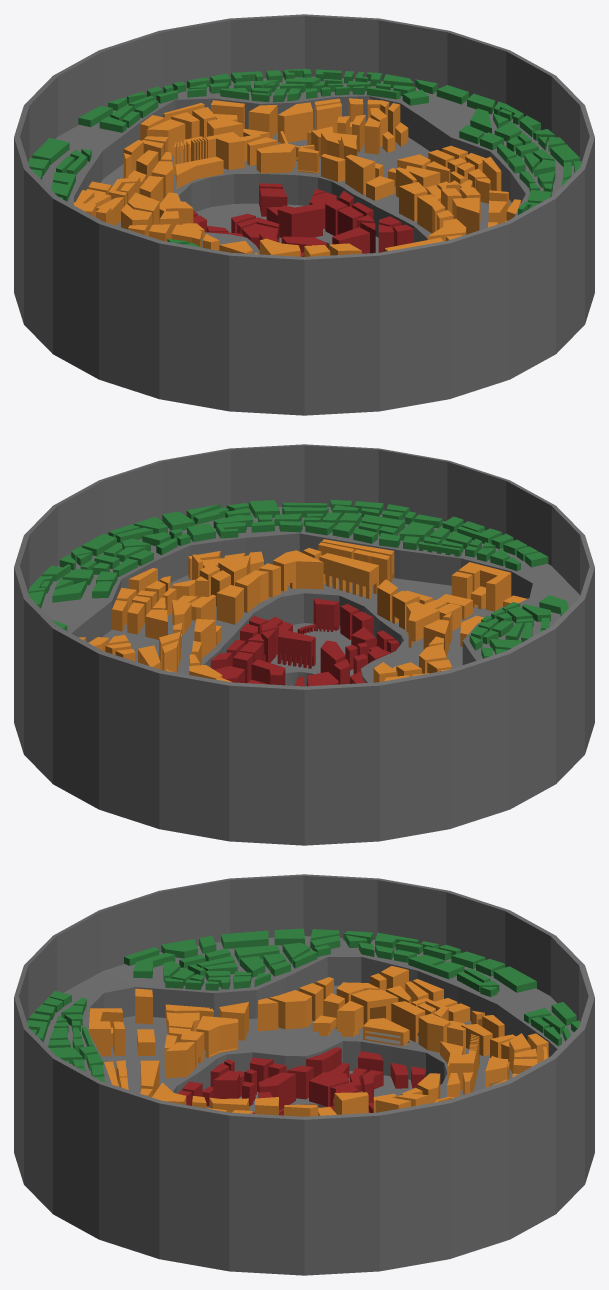
File: O_N_BowlBuildingsSized.fbx
3 views of the same model, one above another, from view 1: azimuth 30°, elevation 25°; view 2: azimuth 150°, elevation 25°; view 3: azimuth 270°, elevation 25° (orthographic).
Parts seen in each view (by area): view 1: M_New_Bowl, M_Buildings_Third_Floor.024, M_Buildings_Second_Floor.072, M_Buildings_Second_Floor.044, M_Buildings_Second_Floor.065, M_Buildings_Second_Floor.043, M_Buildings_Second_Floor.091, M_Buildings_Second_Floor.056, M_Buildings_Second_Floor.115, M_Buildings_Second_Floor.067, M_Buildings_Second_Floor.114, M_Buildings_Second_Floor.108 (+13 smaller); view 2: M_New_Bowl, M_Buildings_Second_Floor.122, M_Buildings_Second_Floor.121, M_Buildings_Second_Floor.006, M_Buildings_Third_Floor.016, M_Buildings_Third_Floor.010, M_Buildings_Second_Floor.108, M_Buildings_Second_Floor.001, M_Buildings_Second_Floor.114, M_Buildings_Third_Floor.024, M_Buildings_Second_Floor.091, M_Buildings_Second_Floor.014 (+10 smaller); view 3: M_New_Bowl, M_Buildings_Second_Floor.001, M_Buildings_Second_Floor.017, M_Buildings_Second_Floor.006, M_Buildings_Second_Floor.025, M_Buildings_Second_Floor.015, M_Buildings_Second_Floor.037, M_Buildings_Third_Floor.040, M_Buildings_Second_Floor.026, M_Buildings_Third_Floor.036, M_Buildings_Second_Floor.027, M_Buildings_First_Floor.173 (+17 smaller).
Boxes of the visible parts, <box> form: M_New_Bowl: <box>14,14,594,415</box>; M_Buildings_Third_Floor.024: <box>277,204,322,237</box>; M_Buildings_Second_Floor.072: <box>278,102,312,142</box>; M_Buildings_Second_Floor.044: <box>205,132,244,169</box>; M_Buildings_Second_Floor.065: <box>256,143,295,173</box>; M_Buildings_Second_Floor.043: <box>175,156,223,188</box>; M_Buildings_Second_Floor.091: <box>345,154,375,194</box>; M_Buildings_Second_Floor.056: <box>144,119,185,155</box>; M_Buildings_Second_Floor.115: <box>452,197,479,234</box>; M_Buildings_Second_Floor.067: <box>248,104,277,138</box>; M_Buildings_Second_Floor.114: <box>417,194,445,233</box>; M_Buildings_Second_Floor.108: <box>399,182,427,221</box>; M_New_Bowl: <box>14,444,594,845</box>; M_Buildings_Second_Floor.122: <box>319,553,378,599</box>; M_Buildings_Second_Floor.121: <box>273,550,323,591</box>; M_Buildings_Second_Floor.006: <box>458,562,511,611</box>; M_Buildings_Third_Floor.016: <box>277,630,315,668</box>; M_Buildings_Third_Floor.010: <box>297,598,339,634</box>; M_Buildings_Second_Floor.108: <box>216,585,243,624</box>; M_Buildings_Second_Floor.001: <box>406,601,439,647</box>; M_Buildings_Second_Floor.114: <box>235,570,268,612</box>; M_Buildings_Third_Floor.024: <box>251,659,285,685</box>; M_Buildings_Second_Floor.091: <box>194,619,215,658</box>; M_Buildings_Second_Floor.014: <box>392,590,419,629</box>; M_New_Bowl: <box>14,874,594,1275</box>; M_Buildings_Second_Floor.001: <box>196,1016,238,1057</box>; M_Buildings_Second_Floor.017: <box>269,990,311,1029</box>; M_Buildings_Second_Floor.006: <box>88,1008,122,1056</box>; M_Buildings_Second_Floor.025: <box>351,989,398,1024</box>; M_Buildings_Second_Floor.015: <box>165,1042,194,1078</box>; M_Buildings_Second_Floor.037: <box>418,1013,450,1052</box>; M_Buildings_Third_Floor.040: <box>258,1072,295,1109</box>; M_Buildings_Second_Floor.026: <box>363,1018,409,1046</box>; M_Buildings_Third_Floor.036: <box>309,1072,348,1106</box>; M_Buildings_Second_Floor.027: <box>391,1001,425,1042</box>; M_Buildings_First_Floor.173: <box>408,954,464,979</box>.
Bounding box in the file's own units: 50400 × 14989 × 50400.
